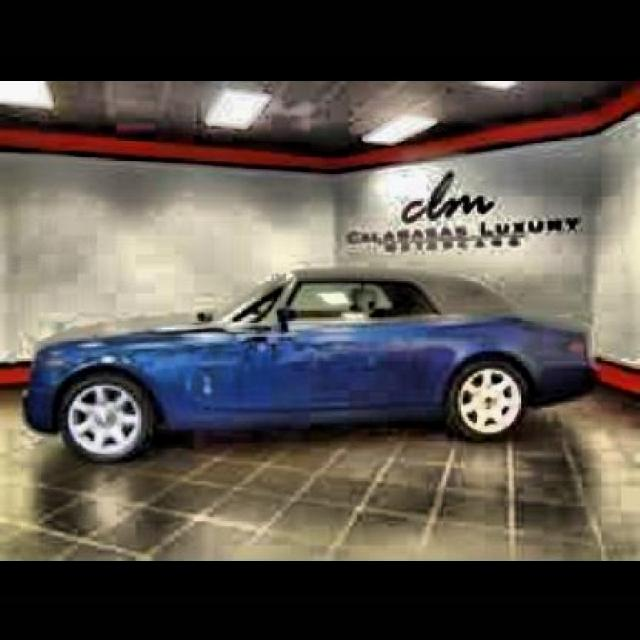blue: (36, 259, 640, 437)
